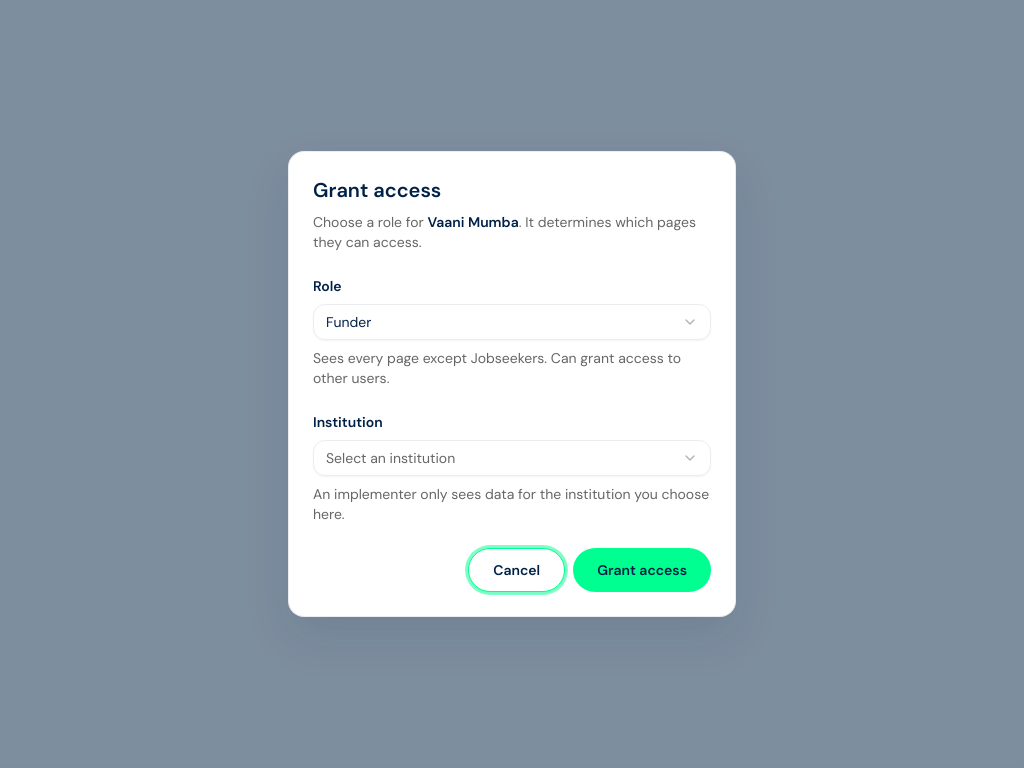
Test case: ConfirmAccessDialog › should offer every institution the deployment holds
# WHEN the institution control is opened
Click the dropdown labelled "Select an institution" at (391, 458), box x1=313 y1=440 x2=711 y2=476
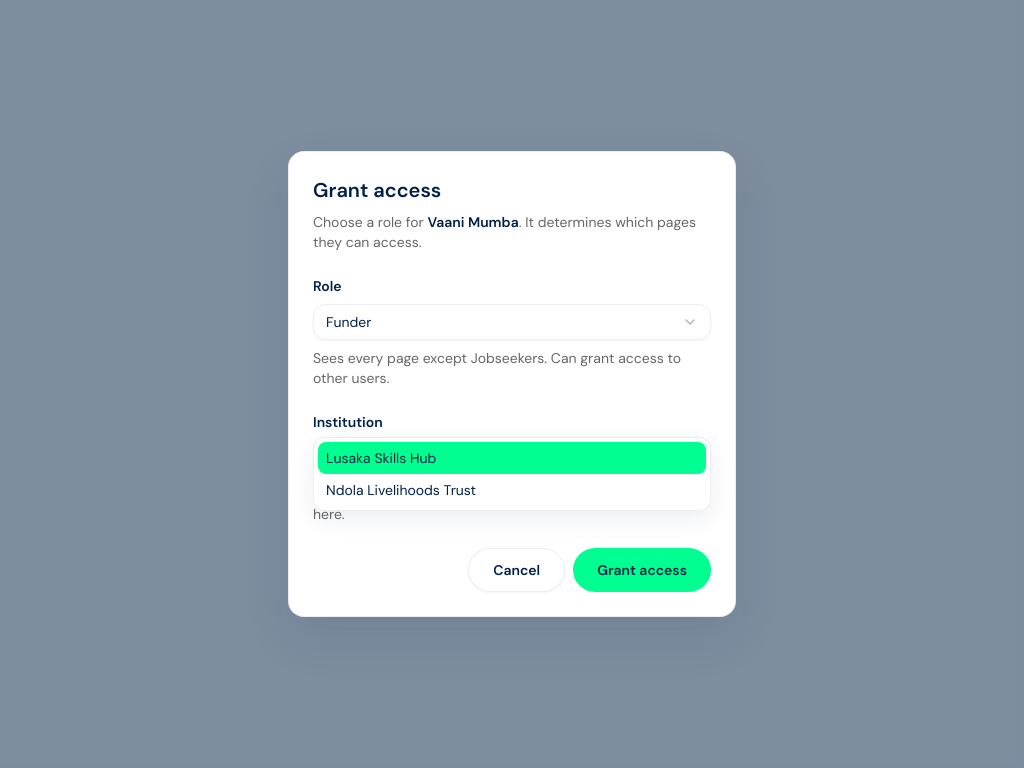
Expected: the options read "Lusaka Skills Hub", "Ndola Livelihoods Trust", in this order, x1=318 y1=442 x2=706 y2=474; x1=326 y1=481 x2=476 y2=499
